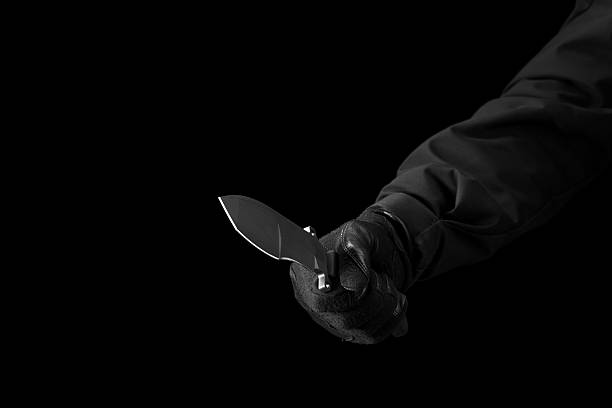knife: (214, 192, 339, 295)
